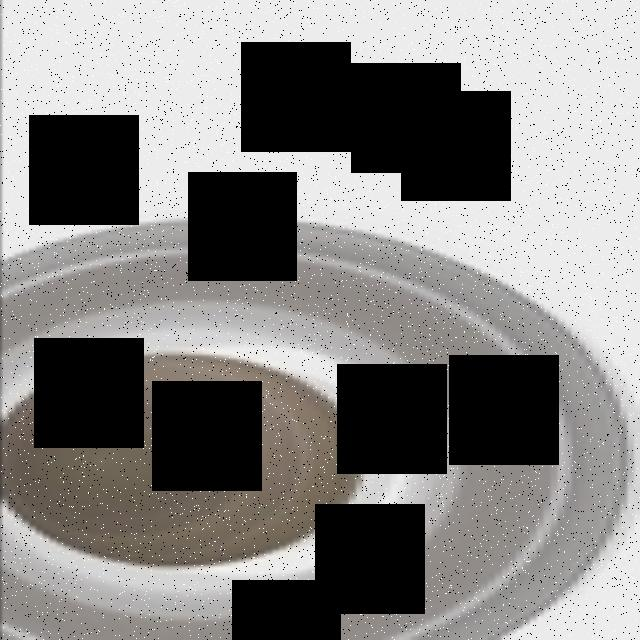Jupiter: (0, 214, 626, 640)
